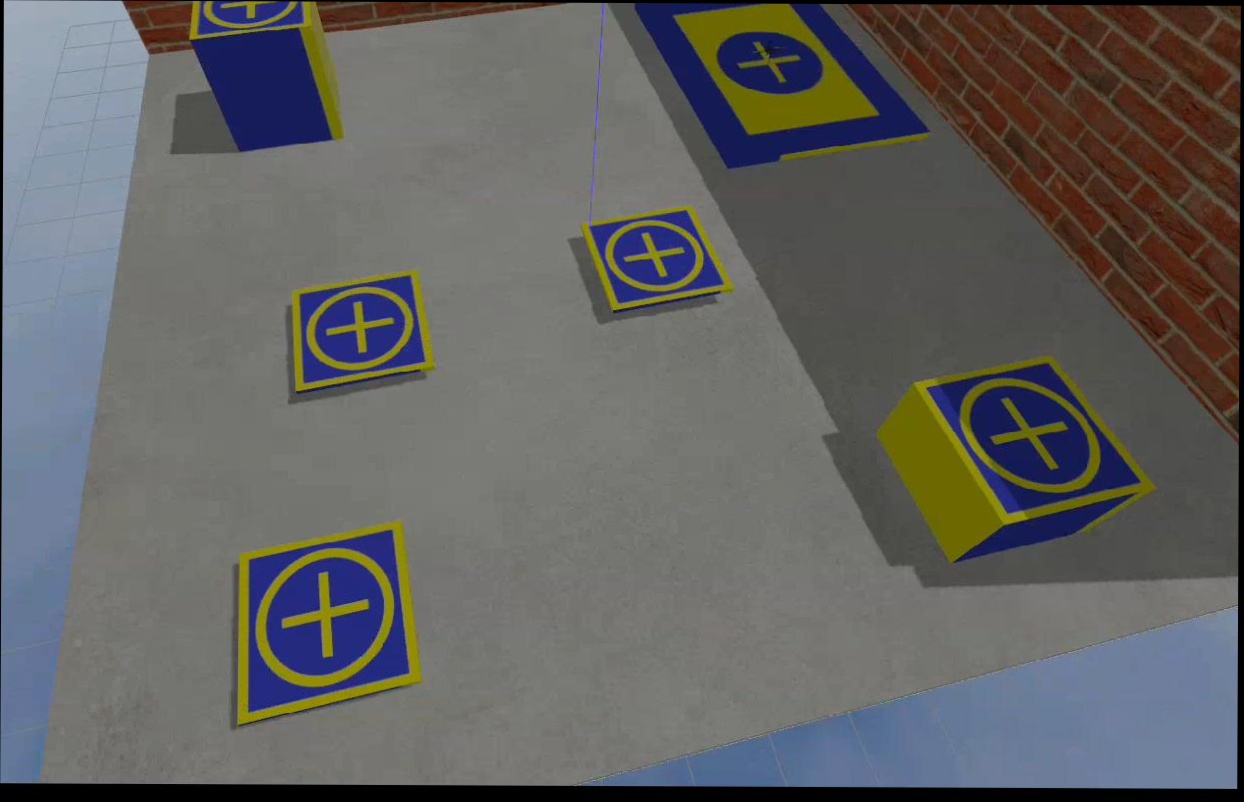large_base: (627, 3, 931, 172)
small_base: (914, 357, 1157, 526), (234, 520, 426, 731), (286, 272, 435, 395), (582, 208, 733, 317), (189, 1, 320, 39)
